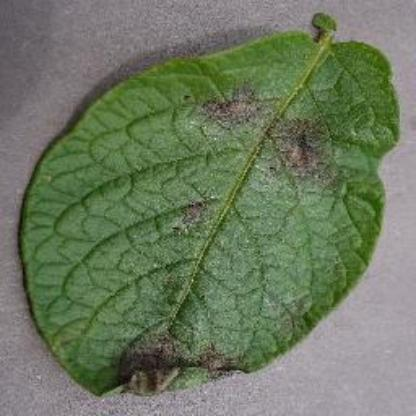Late-Blight: (18, 16, 400, 396)
